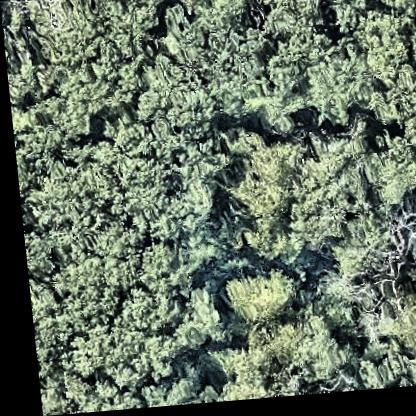tree-top: (32, 0, 178, 135), (285, 123, 372, 257), (208, 317, 339, 400), (111, 147, 217, 237), (229, 135, 299, 261), (297, 39, 374, 127), (362, 4, 415, 89), (240, 84, 314, 144), (216, 272, 295, 327), (378, 279, 416, 393), (361, 134, 416, 206), (249, 0, 329, 46), (167, 287, 220, 351), (163, 91, 219, 142), (53, 371, 117, 415), (129, 370, 199, 410), (133, 241, 185, 294), (120, 332, 171, 380), (19, 230, 59, 284), (324, 0, 377, 40), (368, 0, 416, 27), (344, 359, 379, 395)
